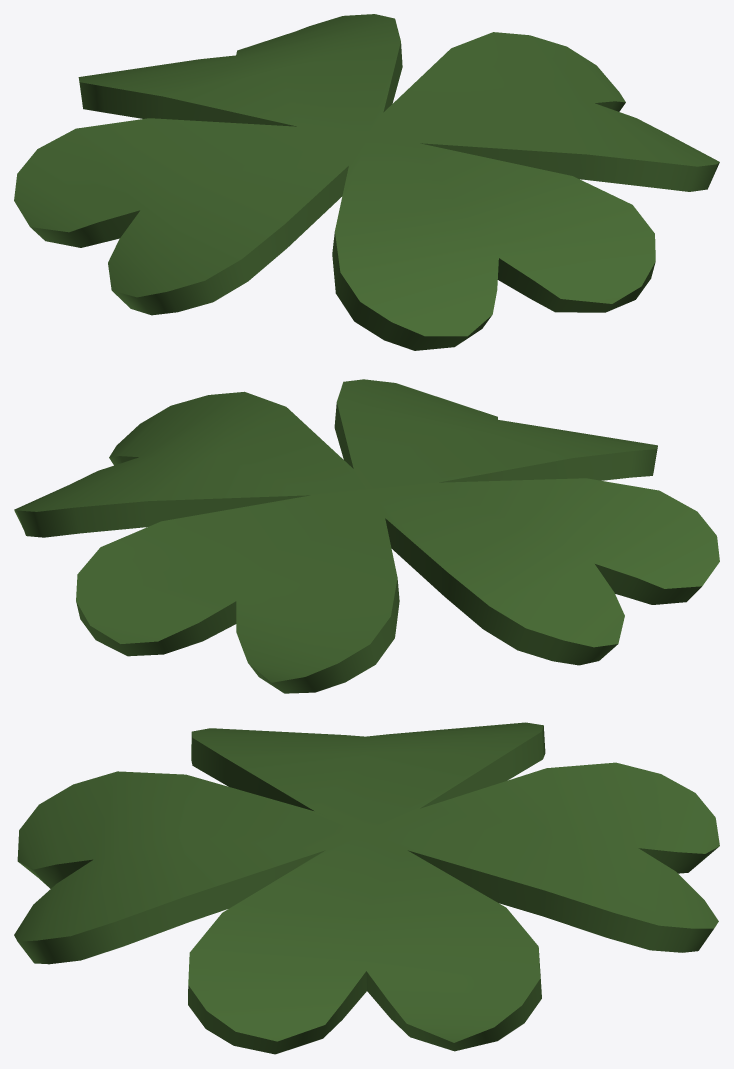
Rendered from Shamrock4_01.fbx.
3 views of the same model, one above another, from view 1: azimuth 30°, elevation 25°; view 2: azimuth 150°, elevation 25°; view 3: azimuth 270°, elevation 25° (orthographic). The views are drawn at different scales.
Visible parts, largest first — view 1: Shamrock4_01; view 2: Shamrock4_01; view 3: Shamrock4_01.
Boxes of the visible parts, <box> form: Shamrock4_01: <box>14,14,719,350</box>; Shamrock4_01: <box>14,379,719,693</box>; Shamrock4_01: <box>14,722,719,1054</box>.
Size of the model in its own units: 0.1606 by 0.0218 by 0.1603.
